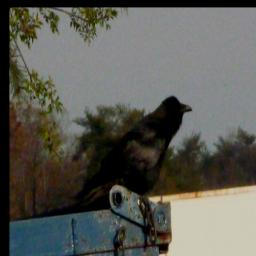Crow: (76, 94, 194, 208)
